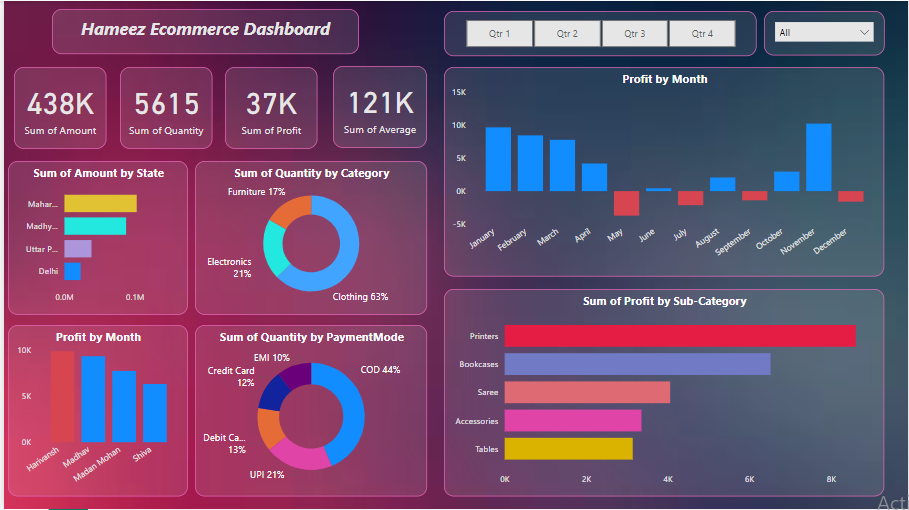

The page's visual inventory and layout, read from the dashboard file:
{"tool":"powerbi","page":{"name":"Page 1","canvas":[1280,720],"ordinal":0},"visuals":[{"type":"textbox","box":[67.6,10.8,435.1,63.5],"z":0},{"type":"columnChart","title":"Profit by Month","fields":{"Y":["Details.Profit"],"Category":["Orders.Order Date.Variation.Date Hierarchy.Month"]},"box":[623.5,93.9,624.3,296.5],"z":1000},{"type":"barChart","fields":{"Category":["Details.Sub-Category"],"Y":["Details.Profit"]},"box":[623.5,407.8,624.3,293.9],"z":2000},{"type":"donutChart","fields":{"Category":["Details.Category"],"Y":["Details.Quantity"]},"box":[270.6,227.5,329.4,217.6],"z":3000},{"type":"donutChart","fields":{"Category":["Details.PaymentMode"],"Y":["Details.Quantity"]},"box":[270.6,458.8,329.4,243.1],"z":4000},{"type":"card","fields":{"Values":["Details.Amount"]},"box":[13.7,94.1,131.4,115.7],"z":5000},{"type":"card","fields":{"Values":["Details.Quantity"]},"box":[164.7,94.1,131.4,115.7],"z":6000},{"type":"card","fields":{"Values":["Details.Profit"]},"box":[313.7,94.1,131.4,115.7],"z":7000},{"type":"card","fields":{"Values":["Details.Average"]},"box":[466.7,92.2,133.3,115.7],"z":8000},{"type":"barChart","fields":{"Category":["Orders.State"],"Y":["Details.Amount"]},"box":[5.9,227.5,254.9,217.6],"z":9000},{"type":"columnChart","title":"Profit by Month","fields":{"Category":["Orders.CustomerName"],"Y":["Details.Amount"]},"box":[5.9,458.8,254.9,243.1],"z":10000},{"type":"slicer","fields":{"Values":["Orders.Order Date.Variation.Date Hierarchy.Quarter"]},"box":[623,14.9,443.2,63.5],"z":11000},{"type":"slicer","fields":{"Values":["Orders.State"]},"box":[1076.5,14.8,171.3,63.5],"z":12000}]}

Visuals, with their boxes in screenshot pixels (x1, y1, x2, y2), scaled from the page's 1280x720 canvas onto the 909x510 screenshot:
textbox: x1=48, y1=8, x2=357, y2=53
"Profit by Month" columnChart: x1=443, y1=67, x2=886, y2=277
barChart - Details.Sub-Category x Details.Profit: x1=443, y1=289, x2=886, y2=497
donutChart - Details.Category x Details.Quantity: x1=192, y1=161, x2=426, y2=315
donutChart - Details.PaymentMode x Details.Quantity: x1=192, y1=325, x2=426, y2=497
card - Details.Amount: x1=10, y1=67, x2=103, y2=149
card - Details.Quantity: x1=117, y1=67, x2=210, y2=149
card - Details.Profit: x1=223, y1=67, x2=316, y2=149
card - Details.Average: x1=331, y1=65, x2=426, y2=147
barChart - Orders.State x Details.Amount: x1=4, y1=161, x2=185, y2=315
"Profit by Month" columnChart: x1=4, y1=325, x2=185, y2=497
slicer - Orders.Order Date.Variation.Date Hierarchy.Quarter: x1=442, y1=11, x2=757, y2=56
slicer - Orders.State: x1=764, y1=10, x2=886, y2=55
